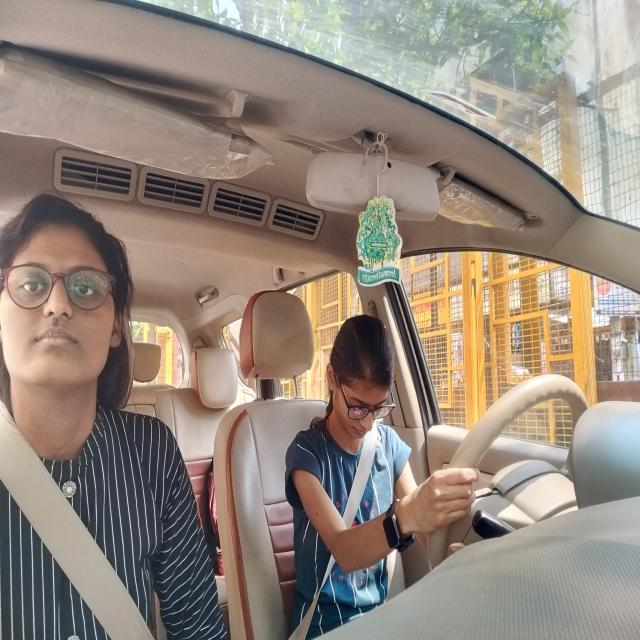drowsy: (318, 310, 402, 444)
person: (0, 202, 128, 398)
